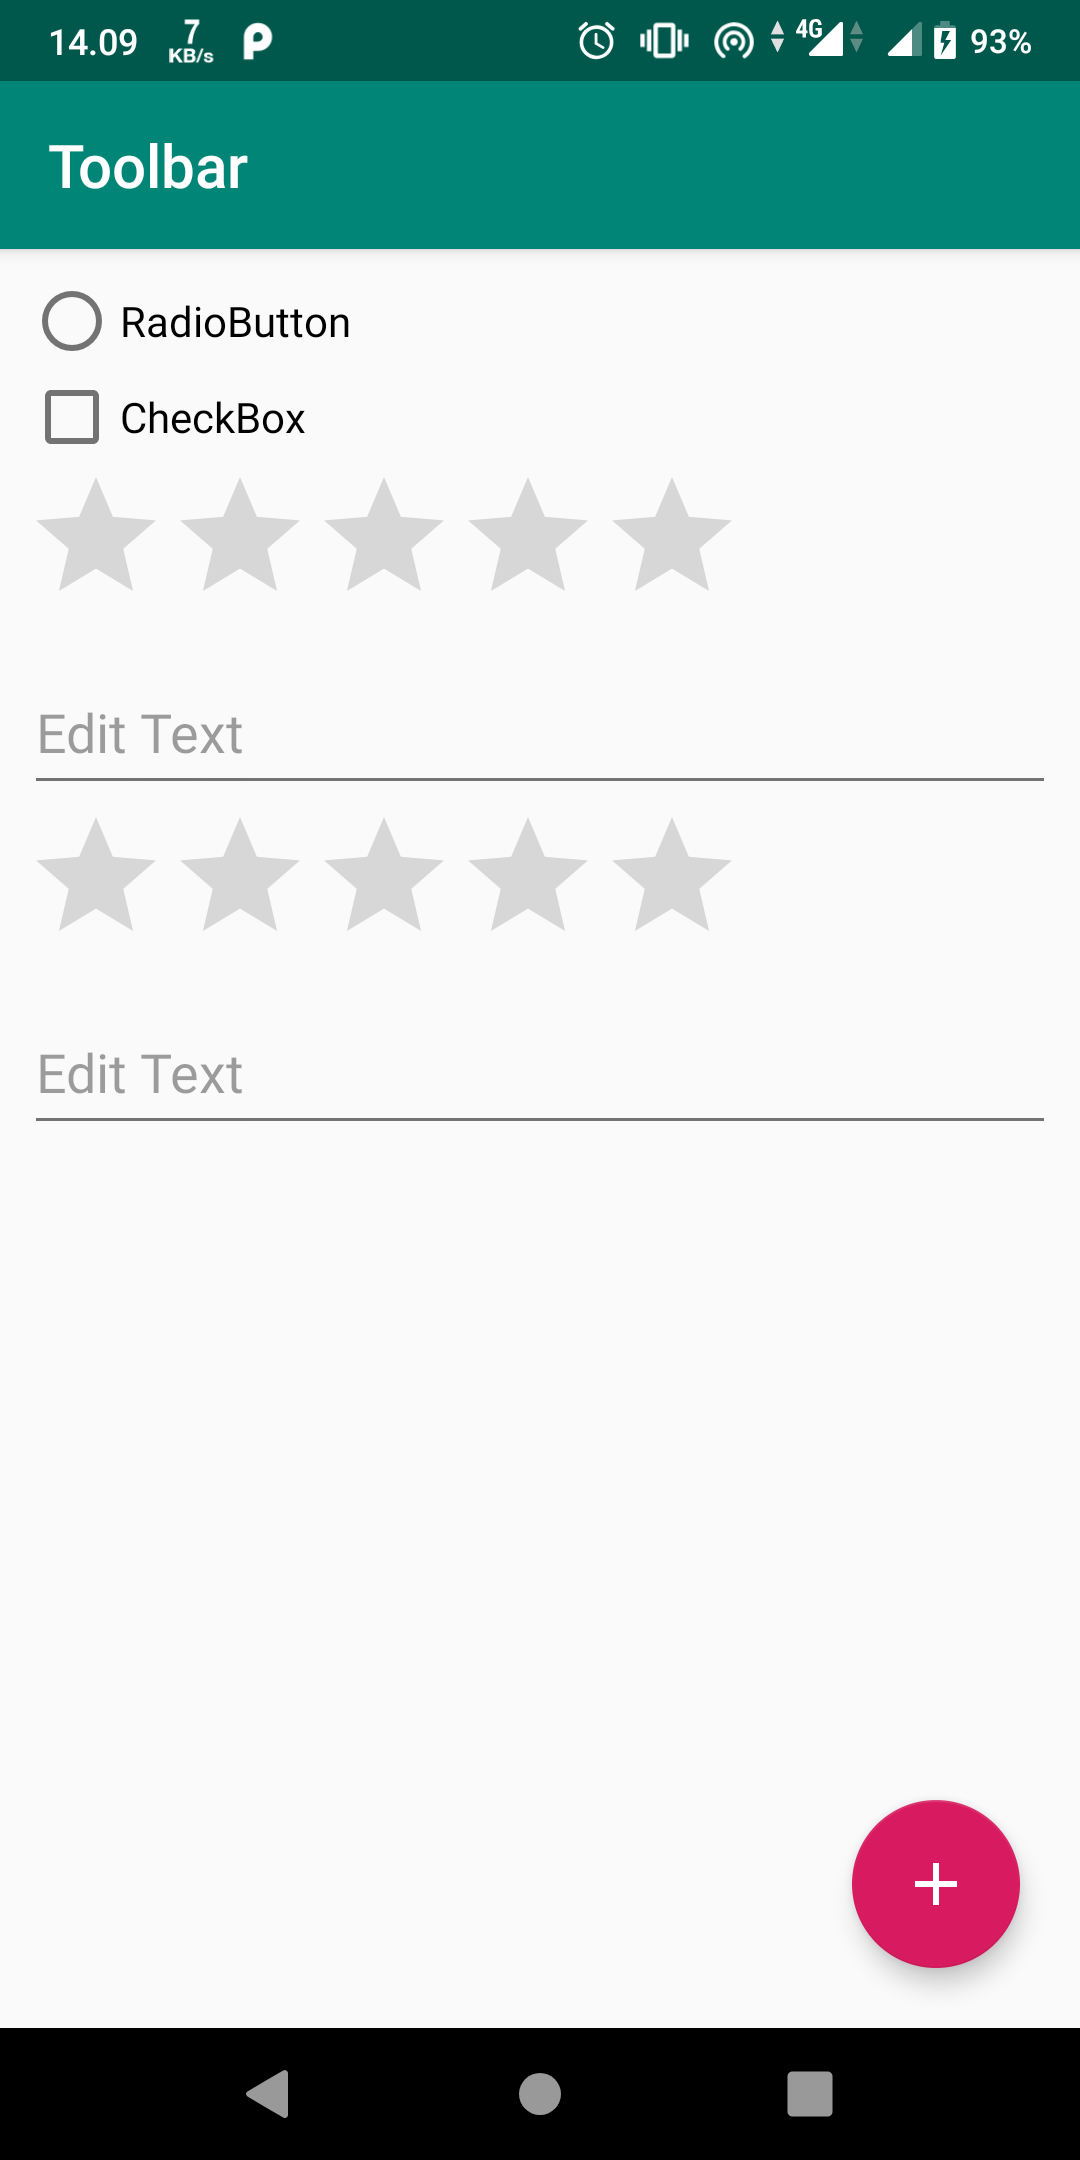checkBox: (36, 377, 317, 457)
editText: (21, 1030, 1052, 1141), (26, 690, 1065, 799)
floatingButton: (846, 1794, 1026, 1973)
radioButton: (33, 282, 362, 361)
ratingBar: (33, 477, 730, 602), (26, 820, 747, 935)
toolbar: (1, 85, 1080, 251)
